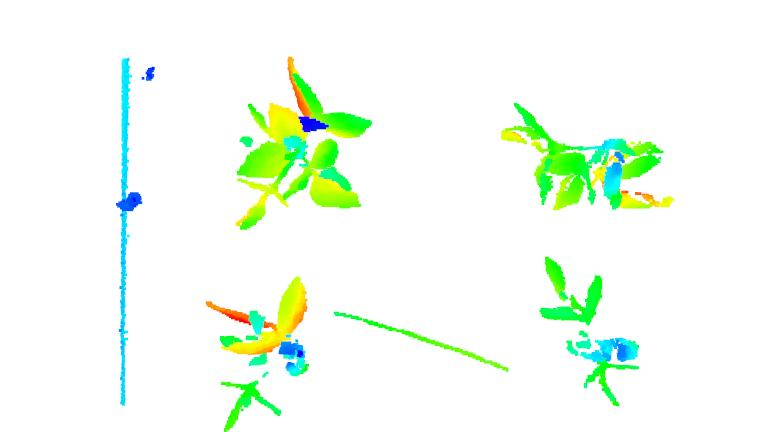mungbean: (230, 50, 367, 239), (497, 97, 681, 212), (210, 272, 317, 432), (531, 251, 639, 409)
